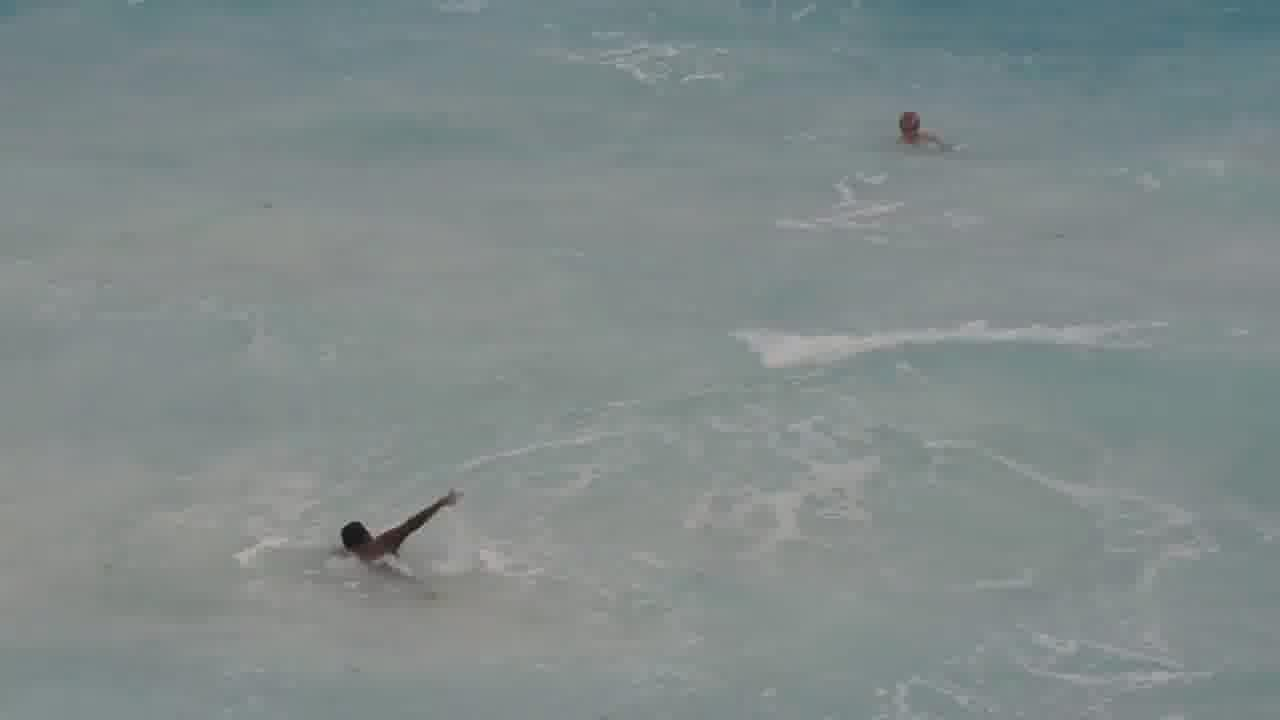human: (335, 491, 471, 573), (877, 100, 957, 161)
